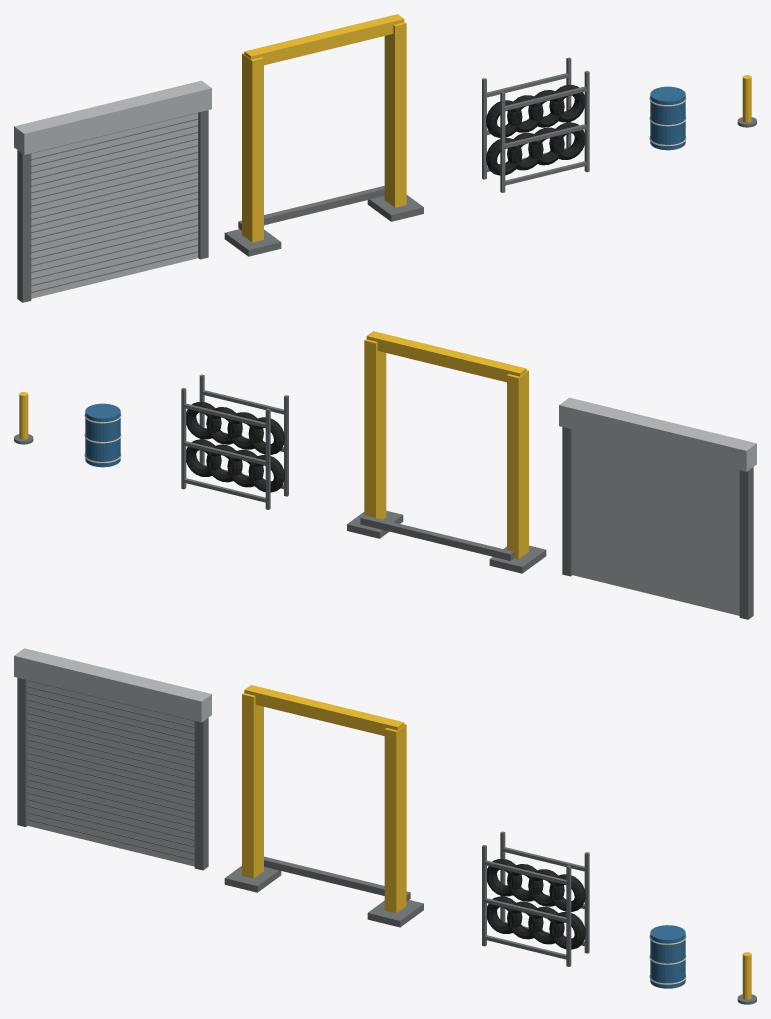
Rendered from jp_factory_parts.glb.
3 views of the same model, one above another, from view 1: azimuth 30°, elevation 25°; view 2: azimuth 150°, elevation 25°; view 3: azimuth 330°, elevation 25° (orthographic).
Visible parts, largest first — view 1: Shutter_SlatPack, ShutterBox, Lift_Post.001, Lift_Post, Lift_TopBeam, GuideRail, Drum_Body, GuideRail.001, Lift_Foot, Lift_Foot.001, Lift_Arm.001, Tire.003 (+11 smaller); view 2: Shutter_SlatPack, ShutterBox, Lift_Post, Lift_Post.001, Lift_TopBeam, GuideRail, Drum_Body, GuideRail.001, Lift_Arm, Lift_Arm.001, Lift_Foot, Tire.003 (+11 smaller); view 3: Shutter_SlatPack, ShutterBox, Lift_Post.001, Lift_Post, Lift_TopBeam, GuideRail.001, Drum_Body, GuideRail, Lift_Foot.001, Lift_Foot, Lift_Arm, Tire (+9 smaller).
Part boxes in pixels (<box>): Shutter_SlatPack: <box>31,113,198,298</box>; ShutterBox: <box>14,80,211,154</box>; Lift_Post.001: <box>384,22,406,207</box>; Lift_Post: <box>242,53,263,242</box>; Lift_TopBeam: <box>244,14,404,65</box>; GuideRail: <box>17,150,31,302</box>; Drum_Body: <box>650,86,685,150</box>; GuideRail.001: <box>198,110,208,259</box>; Lift_Foot: <box>224,229,281,256</box>; Lift_Foot.001: <box>367,195,423,221</box>; Lift_Arm.001: <box>307,186,384,210</box>; Tire.003: <box>549,122,584,159</box>; Shutter_SlatPack: <box>572,429,739,615</box>; ShutterBox: <box>559,397,756,471</box>; Lift_Post: <box>507,370,528,559</box>; Lift_Post.001: <box>364,339,386,519</box>; Lift_TopBeam: <box>366,331,526,382</box>; GuideRail: <box>739,467,753,619</box>; Drum_Body: <box>85,403,120,467</box>; GuideRail.001: <box>562,427,572,576</box>; Lift_Arm: <box>429,532,514,560</box>; Lift_Arm.001: <box>360,515,443,540</box>; Lift_Foot: <box>489,545,546,573</box>; Tire.003: <box>186,439,221,476</box>; Shutter_SlatPack: <box>27,680,194,866</box>; ShutterBox: <box>14,648,211,722</box>; Lift_Post.001: <box>384,724,406,913</box>; Lift_Post: <box>242,693,263,878</box>; Lift_TopBeam: <box>244,685,404,735</box>; GuideRail.001: <box>194,718,208,870</box>; Drum_Body: <box>650,925,685,988</box>; GuideRail: <box>17,677,27,826</box>; Lift_Foot.001: <box>367,900,423,927</box>; Lift_Foot: <box>224,866,281,892</box>; Lift_Arm: <box>264,856,339,884</box>; Tire: <box>487,896,522,933</box>.
Size of the model in its own units: 13.93 by 3.46 by 0.78.
